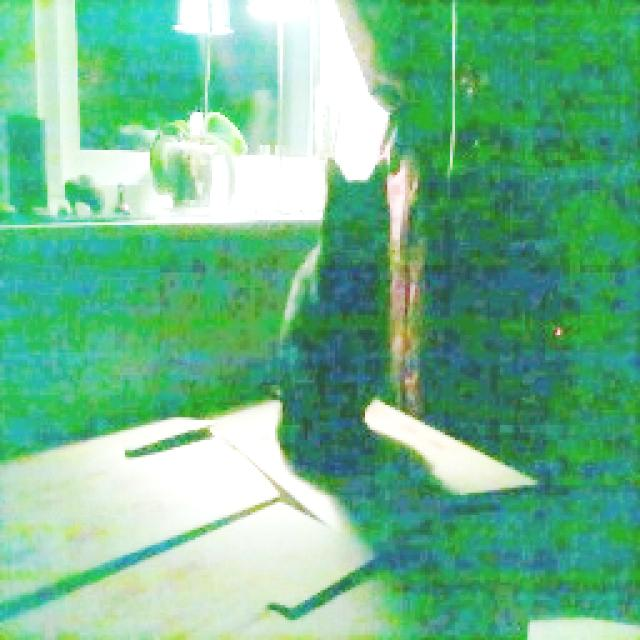cat: (273, 152, 402, 478)
